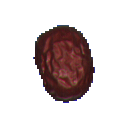gd: (19, 14, 111, 106)
